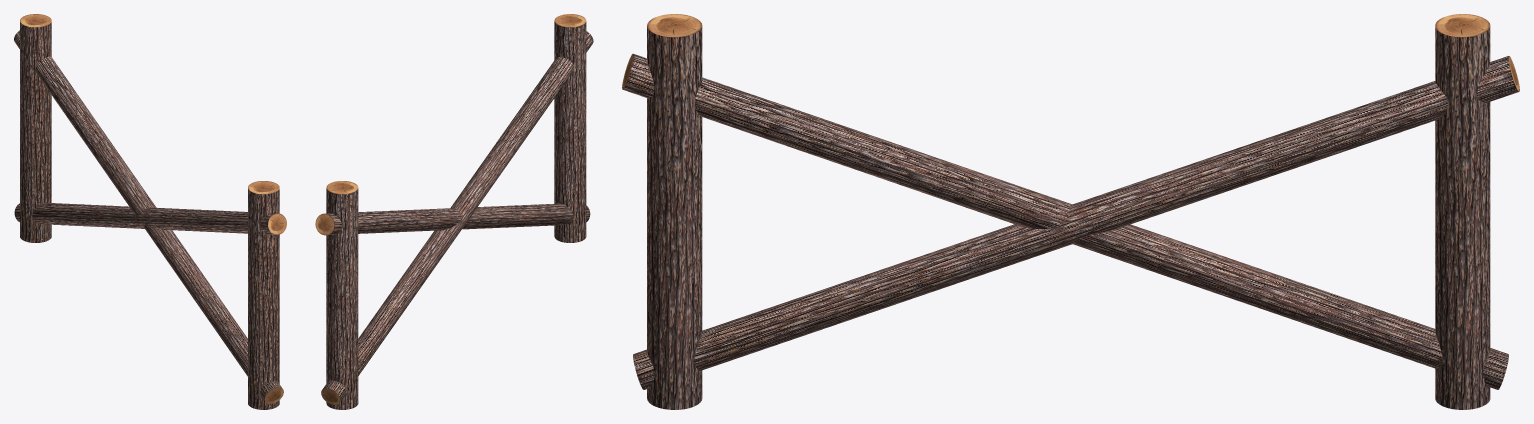
The model's file is fence.obj.
The picture shows the model from 3 angles, left to right: view 1: azimuth 30°, elevation 25°; view 2: azimuth 150°, elevation 25°; view 3: azimuth 270°, elevation 25°; orthographic projection. The views are drawn at different scales.
Visible parts, largest first — view 1: Cylinder.001; view 2: Cylinder.001; view 3: Cylinder.001.
Part boxes in pixels (<box>): Cylinder.001: <box>14,14,286,409</box>; Cylinder.001: <box>315,14,593,409</box>; Cylinder.001: <box>622,14,1519,409</box>.
Size of the model in its own units: 0.3521 by 2.62 by 5.72.
